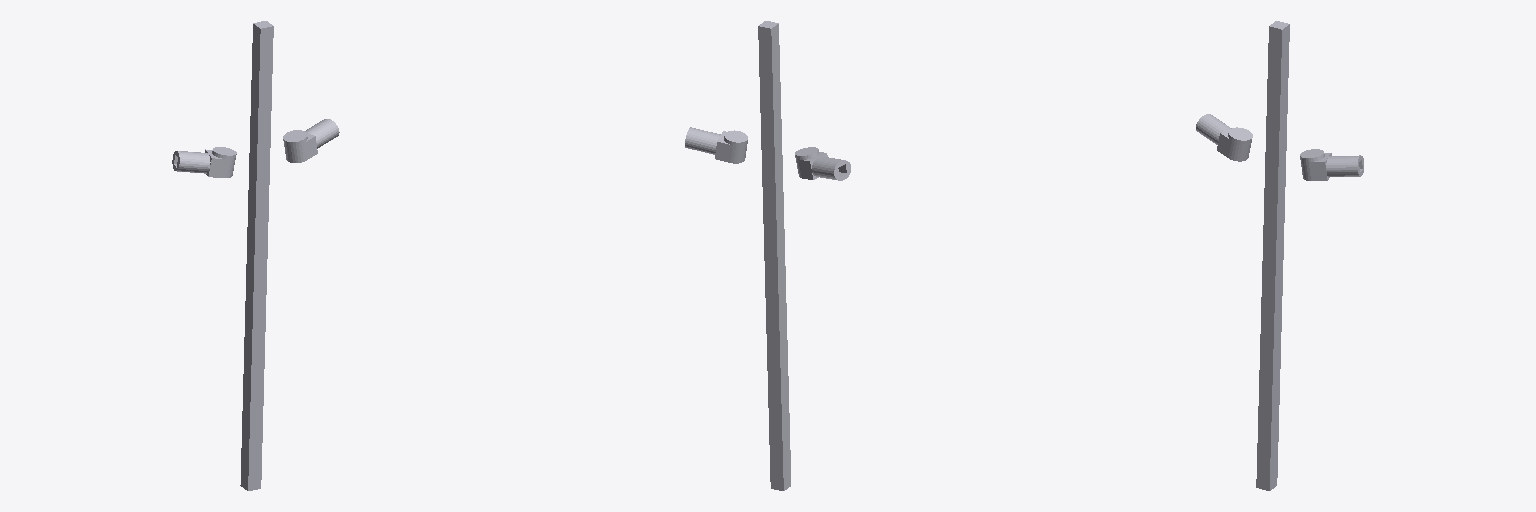
robot.urdf — butterfly:
<?xml version="1.0" encoding="utf-8"?>
<!-- This URDF was automatically created by SolidWorks to URDF Exporter! Originally created by [author] ([email redacted]) 
     Commit Version: 1.6.0-4-g7f85cfe  Build Version: 1.6.7995.38578
     For more information, please see http://wiki.ros.org/sw_urdf_exporter -->
<robot
  name="butterfly">
  <link
    name="base_link">
    <inertial>
      <origin
        xyz="0.175328855296952 -0.00120000000000003 0.0954312607267515"
        rpy="0 0 0" />
      <mass
        value="0.00711000000000002" />
      <inertia
        ixx="5.92549438647448E-06"
        ixy="4.02478280245042E-23"
        ixz="-1.69164464518841E-07"
        iyy="5.93033250000002E-06"
        iyz="1.55522997087424E-21"
        izz="1.55031135255371E-08" />
    </inertial>
    <visual>
      <origin
        xyz="0 0 0"
        rpy="0 0 0" />
      <geometry>
        <mesh
          filename="package://butterfly/meshes/base_link.STL" />
      </geometry>
      <material
        name="">
        <color
          rgba="0.776470588235294 0.776470588235294 0.819607843137255 1" />
      </material>
    </visual>
    <collision>
      <origin
        xyz="0 0 0"
        rpy="0 0 0" />
      <geometry>
        <mesh
          filename="package://butterfly/meshes/base_link.STL" />
      </geometry>
    </collision>
  </link>
  <link
    name="leftwing_Link">
    <inertial>
      <origin
        xyz="0.00219938084441759 -0.00218657908716363 5.82532958814941E-08"
        rpy="0 0 0" />
      <mass
        value="0.00147107718311536" />
      <inertia
        ixx="4.89494439415532E-09"
        ixy="-7.76406148903029E-10"
        ixz="-5.11153261220452E-13"
        iyy="1.81958240291303E-08"
        iyz="-6.80643282485032E-15"
        izz="1.79901156079066E-08" />
    </inertial>
    <visual>
      <origin
        xyz="0 0 0"
        rpy="0 0 0" />
      <geometry>
        <mesh
          filename="package://butterfly/meshes/leftwing_Link.STL" />
      </geometry>
      <material
        name="">
        <color
          rgba="0.776470588235294 0.776470588235294 0.819607843137255 1" />
      </material>
    </visual>
    <collision>
      <origin
        xyz="0 0 0"
        rpy="0 0 0" />
      <geometry>
        <mesh
          filename="package://butterfly/meshes/leftwing_Link.STL" />
      </geometry>
    </collision>
  </link>
  <joint
    name="leftwing_joint"
    type="revolute">
    <origin
      xyz="0.18533 -0.00093712 0.11476"
      rpy="-1.6088 -0.14093 0.26448" />
    <parent
      link="base_link" />
    <child
      link="leftwing_Link" />
    <axis
      xyz="-0.33037 0.93969 0.088521" />
    <limit
      lower="0"
      upper="0"
      effort="0"
      velocity="0" />
  </joint>
  <link
    name="rightwing_Link">
    <inertial>
      <origin
        xyz="-0.00219937942048704 -0.00218657949638976 -7.85888171761506E-08"
        rpy="0 0 0" />
      <mass
        value="0.00147107670850053" />
      <inertia
        ixx="4.89494517058123E-09"
        ixy="7.76404288607481E-10"
        ixz="-6.13666079259511E-13"
        iyy="1.8195822565493E-08"
        iyz="1.23356069756839E-14"
        izz="1.79900994939063E-08" />
    </inertial>
    <visual>
      <origin
        xyz="0 0 0"
        rpy="0 0 0" />
      <geometry>
        <mesh
          filename="package://butterfly/meshes/rightwing_Link.STL" />
      </geometry>
      <material
        name="">
        <color
          rgba="0.776470588235294 0.776470588235294 0.819607843137255 1" />
      </material>
    </visual>
    <collision>
      <origin
        xyz="0 0 0"
        rpy="0 0 0" />
      <geometry>
        <mesh
          filename="package://butterfly/meshes/rightwing_Link.STL" />
      </geometry>
    </collision>
  </link>
  <joint
    name="rightwing_joint"
    type="revolute">
    <origin
      xyz="0.16645 -0.00093712 0.1153"
      rpy="-1.6241 0.19611 -0.26704" />
    <parent
      link="base_link" />
    <child
      link="rightwing_Link" />
    <axis
      xyz="0.33037 0.93969 0.088521" />
    <limit
      lower="0"
      upper="0"
      effort="0"
      velocity="0" />
  </joint>
</robot>

--- Render facts (derived) ---
The picture shows the robot from 3 angles, left to right: view 1: azimuth 30°, elevation 25°; view 2: azimuth 150°, elevation 25°; view 3: azimuth 330°, elevation 25°; orthographic projection.
Model butterfly with 3 links and 2 joints (2 revolute), rooted at base_link, posed every joint at zero.
Visible links, largest first — view 1: base_link, rightwing_Link, leftwing_Link; view 2: base_link, leftwing_Link, rightwing_Link; view 3: base_link, leftwing_Link, rightwing_Link.
Boxes of the visible links, <box> form: base_link: <box>240,21,273,490</box>; rightwing_Link: <box>172,147,236,177</box>; leftwing_Link: <box>283,119,339,162</box>; base_link: <box>758,21,790,490</box>; leftwing_Link: <box>685,127,747,163</box>; rightwing_Link: <box>795,147,850,180</box>; base_link: <box>1256,21,1289,490</box>; leftwing_Link: <box>1300,149,1363,180</box>; rightwing_Link: <box>1196,114,1252,161</box>.
Size in the robot's own frame: 0.0367 by 0.0072 by 0.1 metres.
Meshes: 3 distinct files referenced, 3 mesh visuals loaded (3 binary STL).